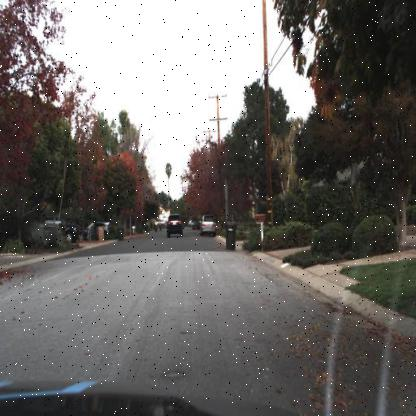car: (41, 213, 81, 249), (164, 210, 184, 242), (198, 214, 216, 237), (86, 220, 108, 236)
